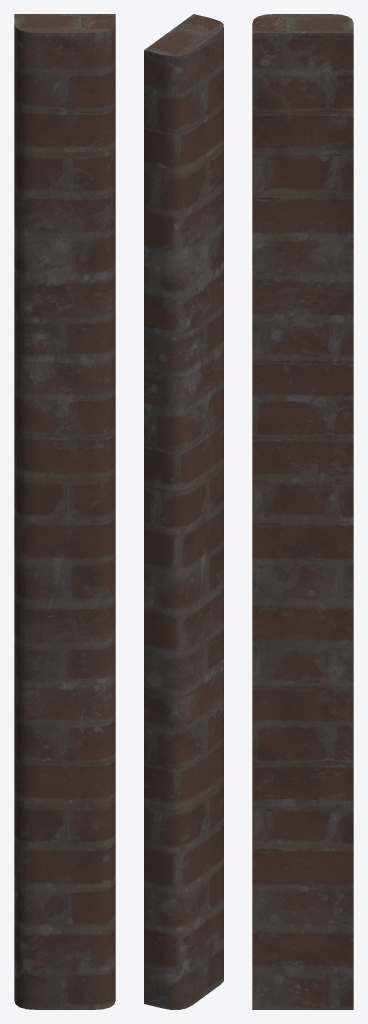
File: Kit_BricksThinColon.fbx
3 renders of one model, left to right at view 1: azimuth 90°, elevation 25°; view 2: azimuth 150°, elevation 25°; view 3: azimuth 270°, elevation 25°, orthographic. The views are drawn at different scales.
Visible parts, largest first — view 1: Kit_BricksThinColon; view 2: Kit_BricksThinColon; view 3: Kit_BricksThinColon.
Boxes of the visible parts, box(x1,y1,x2,y2) form: Kit_BricksThinColon: box(14, 14, 115, 1009); Kit_BricksThinColon: box(144, 14, 223, 1009); Kit_BricksThinColon: box(252, 14, 353, 1009).
Size of the model in its own units: 3.31 by 80.09 by 7.53.
